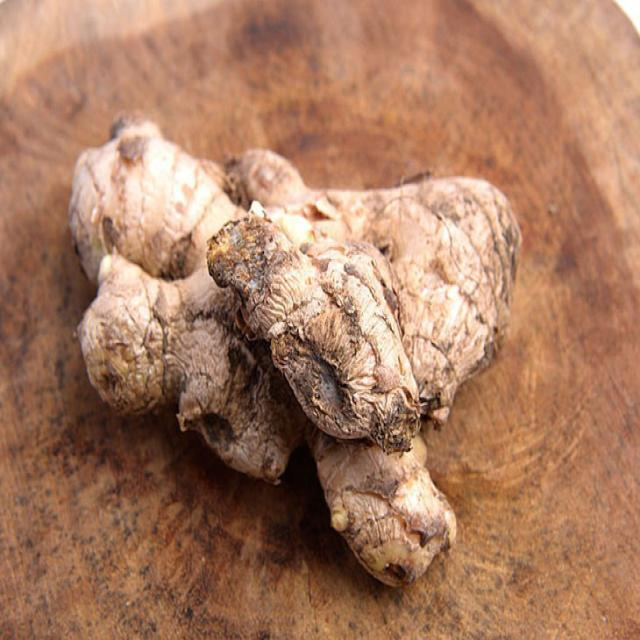ginger: (74, 112, 514, 580)
